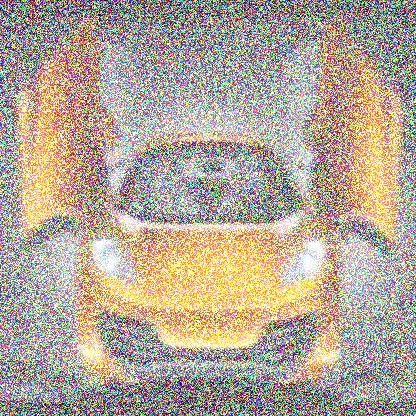Vehicle: (15, 9, 401, 409)
